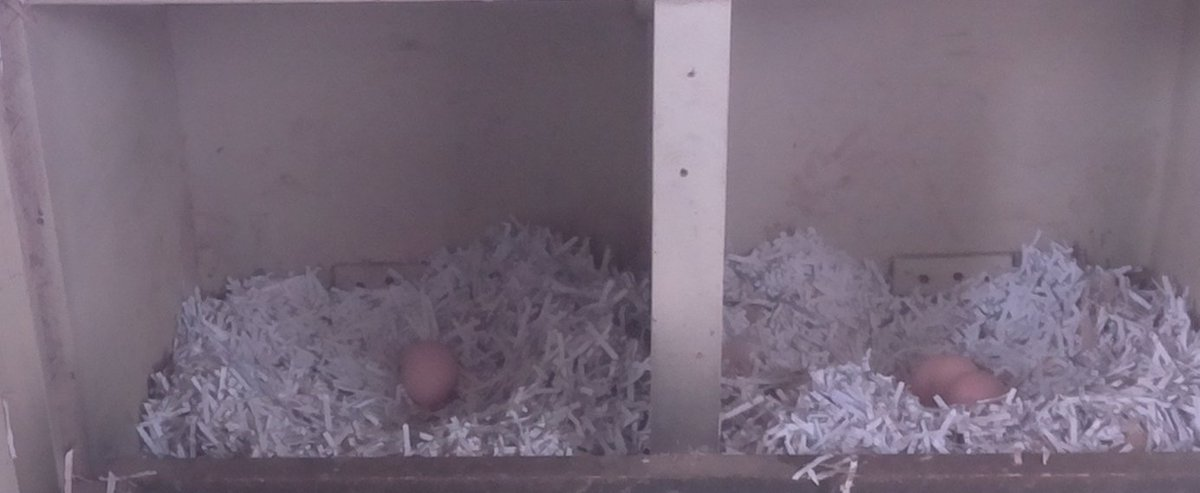egg: (396, 337, 464, 409), (913, 349, 980, 397), (944, 368, 1013, 411)
